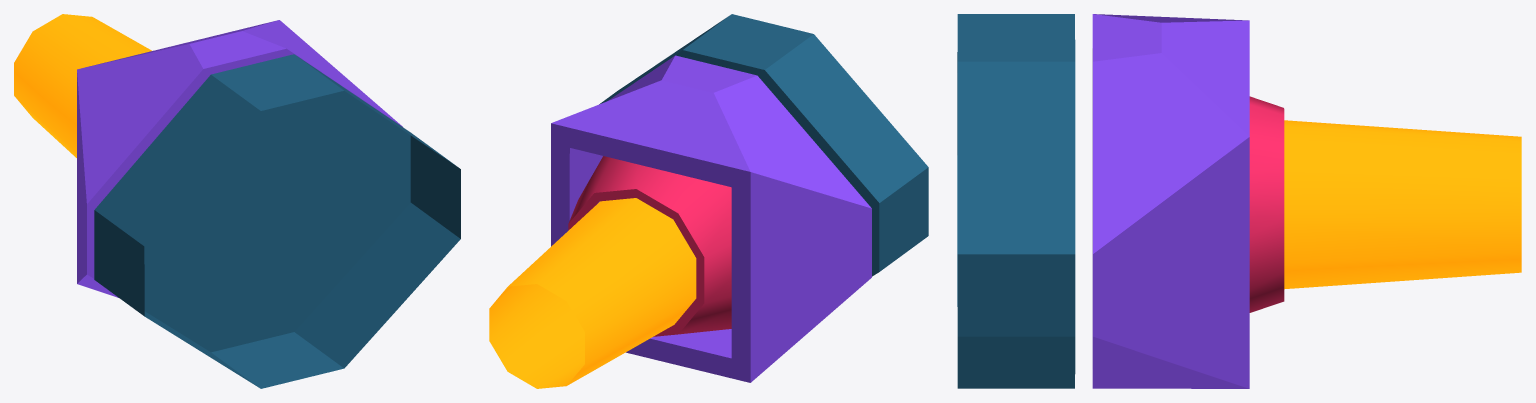
Rendered from teleport.glb.
The picture shows the model from 3 angles, left to right: view 1: azimuth 30°, elevation 25°; view 2: azimuth 150°, elevation 25°; view 3: azimuth 270°, elevation 25°; orthographic projection. The views are drawn at different scales.
Parts seen in each view (by area): view 1: Plane.005, boost-part.007; view 2: Plane.005, boost-part.007; view 3: Plane.005, boost-part.007.
Boxes of the visible parts, x1,y1,x2,y2 form: Plane.005: (77,20,460,388); boost-part.007: (14,14,151,157); Plane.005: (551,14,928,382); boost-part.007: (489,198,696,388); Plane.005: (957,14,1284,388); boost-part.007: (1284,120,1521,289).
Bounding box in the file's own units: 0.1527 × 0.1281 × 0.2004.
